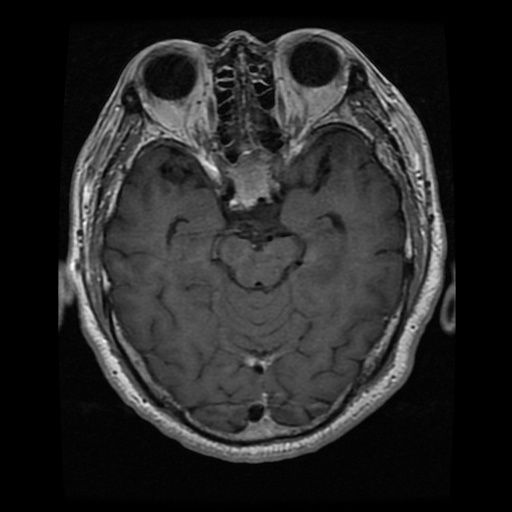pituitary: (233, 153, 271, 203)
